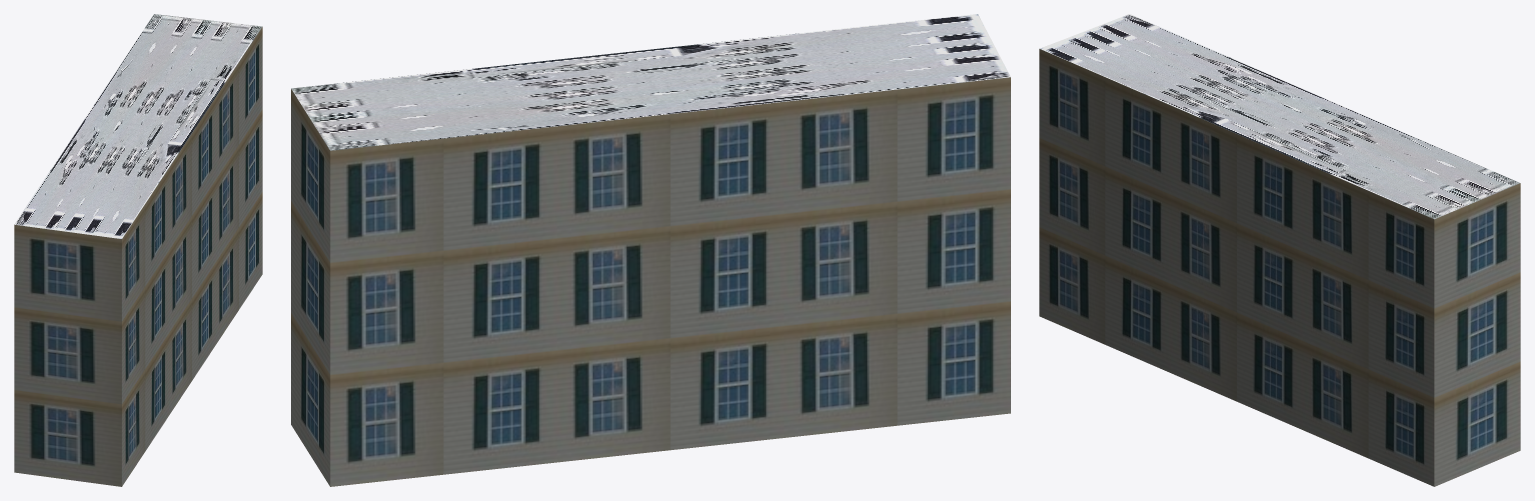
Rendered from ResTex__3599.fbx.
The picture shows the model from 3 angles, left to right: view 1: azimuth 30°, elevation 25°; view 2: azimuth 150°, elevation 25°; view 3: azimuth 270°, elevation 25°; orthographic projection. The views are drawn at different scales.
Visible parts, largest first — view 1: CityEngineMaterial_7_m, CityEngineMaterial_m; view 2: CityEngineMaterial_7_m, CityEngineMaterial_m; view 3: CityEngineMaterial_7_m, CityEngineMaterial_m.
Part boxes in pixels (left/top/right/bottom): CityEngineMaterial_7_m: left=14, top=27, right=262, bottom=486; CityEngineMaterial_m: left=14, top=14, right=262, bottom=238; CityEngineMaterial_7_m: left=291, top=77, right=1010, bottom=486; CityEngineMaterial_m: left=291, top=14, right=1010, bottom=150; CityEngineMaterial_7_m: left=1039, top=49, right=1520, bottom=486; CityEngineMaterial_m: left=1040, top=14, right=1519, bottom=219.
Size of the model in its own units: 14.81 by 9 by 14.66.
2 materials, 2 textured.
